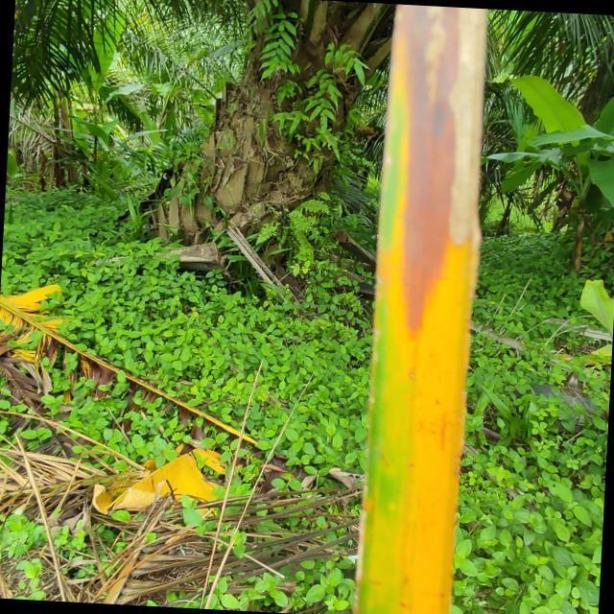Megnesium: (357, 0, 489, 614)
